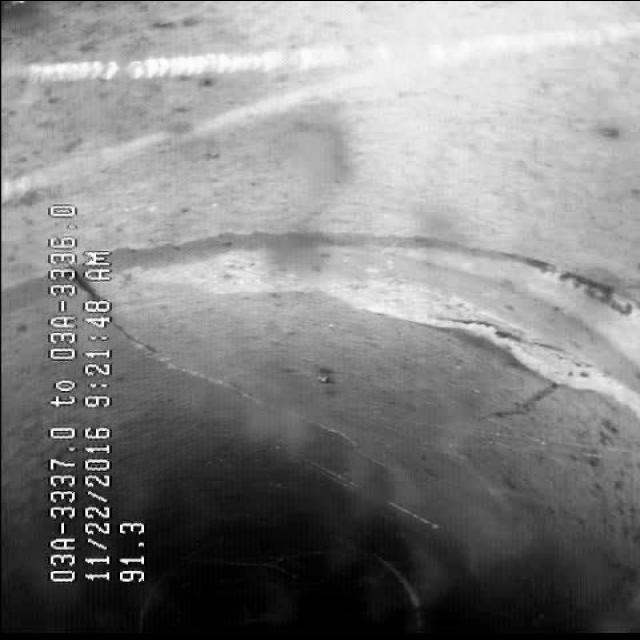Crack: (144, 352, 372, 434)
